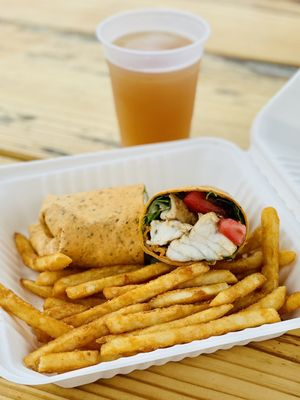pizza: (94, 8, 211, 147)
soup: (33, 182, 149, 271)
